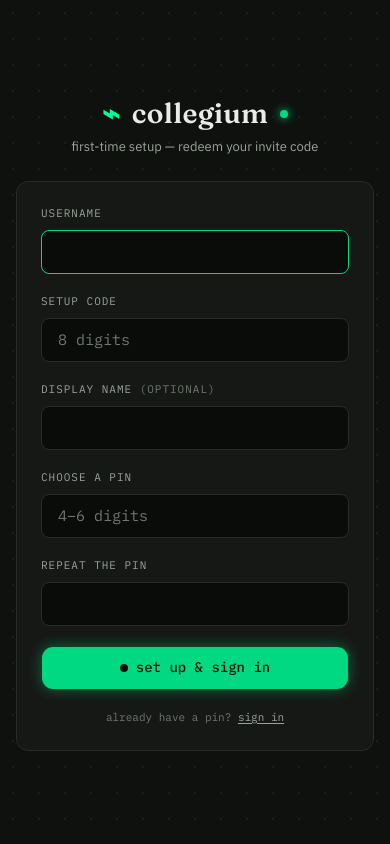
Test: FirstLoginScreen › surfaces the server error for a bad/expired code
Type "newbie" into the field labelled "username".
click(195, 252); type("newbie")  # box [41,230,349,274]
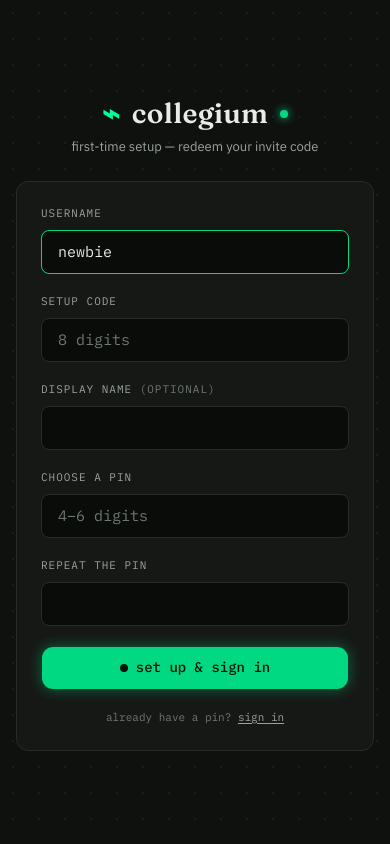
Type "12345678" into the field labelled "setup code".
click(195, 340); type("12345678")  # box [41,318,349,362]
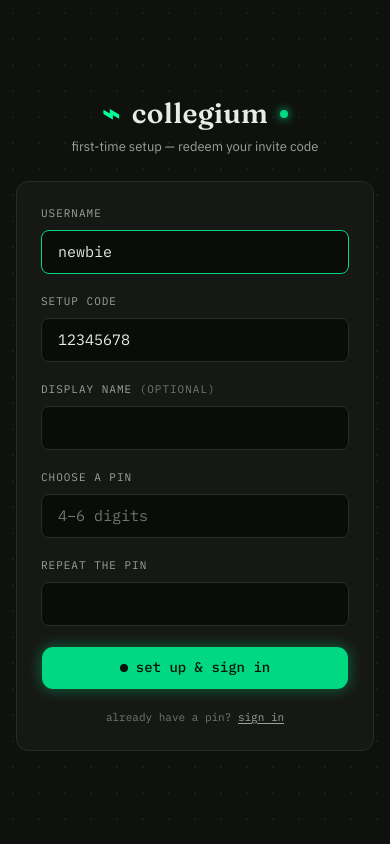
Type "4242" into the password field labelled "choose a pin".
click(195, 516); type("4242")  # box [41,494,349,538]
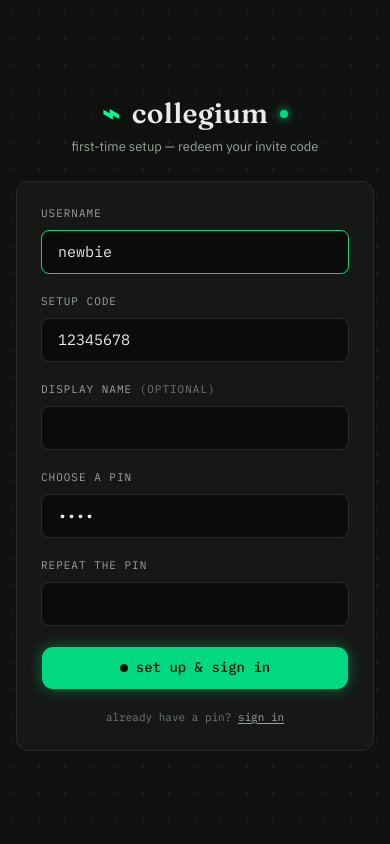
Type "4242" into the password field labelled "repeat the pin".
click(195, 604); type("4242")  # box [41,582,349,626]
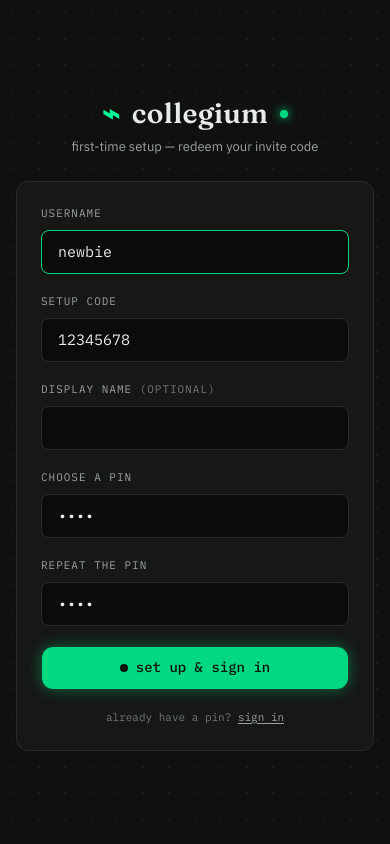
Click the button "set up & sign in".
click(195, 668)  # box [41,646,349,690]
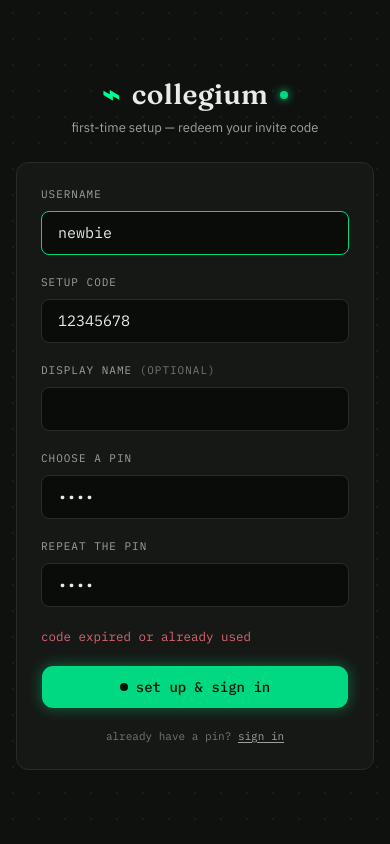
Check: the message reads "code expired or already used", box [41,628,251,644]
